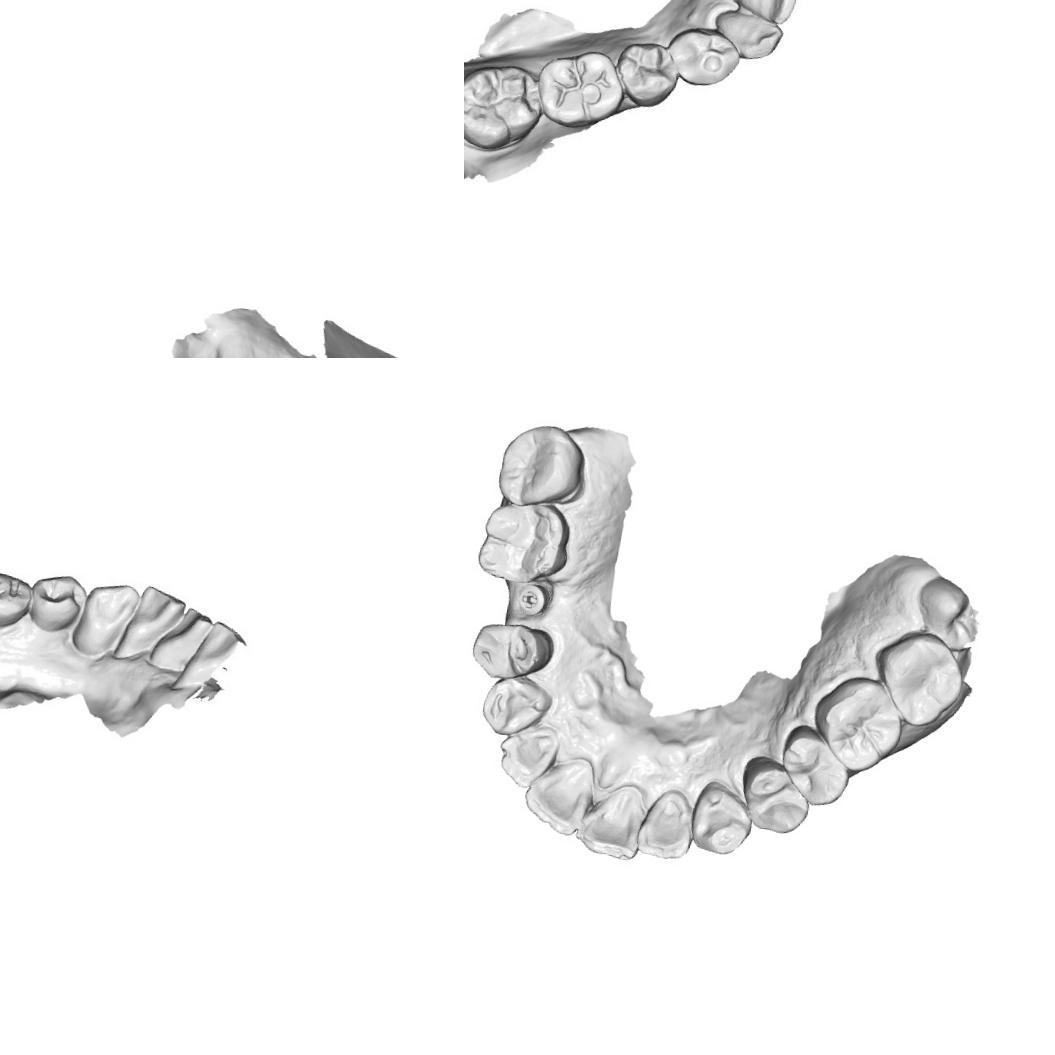canine: (69, 572, 145, 665), (476, 669, 558, 742), (684, 778, 758, 858), (706, 5, 788, 62)
implant_plus: (510, 579, 555, 619)
incisor: (518, 754, 600, 839), (181, 618, 257, 704), (574, 777, 648, 863), (115, 577, 183, 659), (150, 594, 213, 679), (495, 716, 564, 791), (632, 784, 698, 861), (735, 0, 801, 28)
molar: (866, 626, 971, 734), (806, 668, 909, 778), (492, 417, 592, 517), (472, 497, 576, 590), (531, 44, 629, 136), (464, 58, 548, 158)
premolar: (734, 751, 817, 839), (775, 720, 854, 810), (464, 616, 557, 688), (611, 36, 684, 109), (666, 24, 740, 92), (26, 568, 88, 634), (0, 562, 35, 633)
